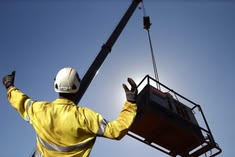hardhat: (51, 65, 80, 94)
person: (3, 56, 140, 156)
safety_vest: (12, 86, 100, 153)
